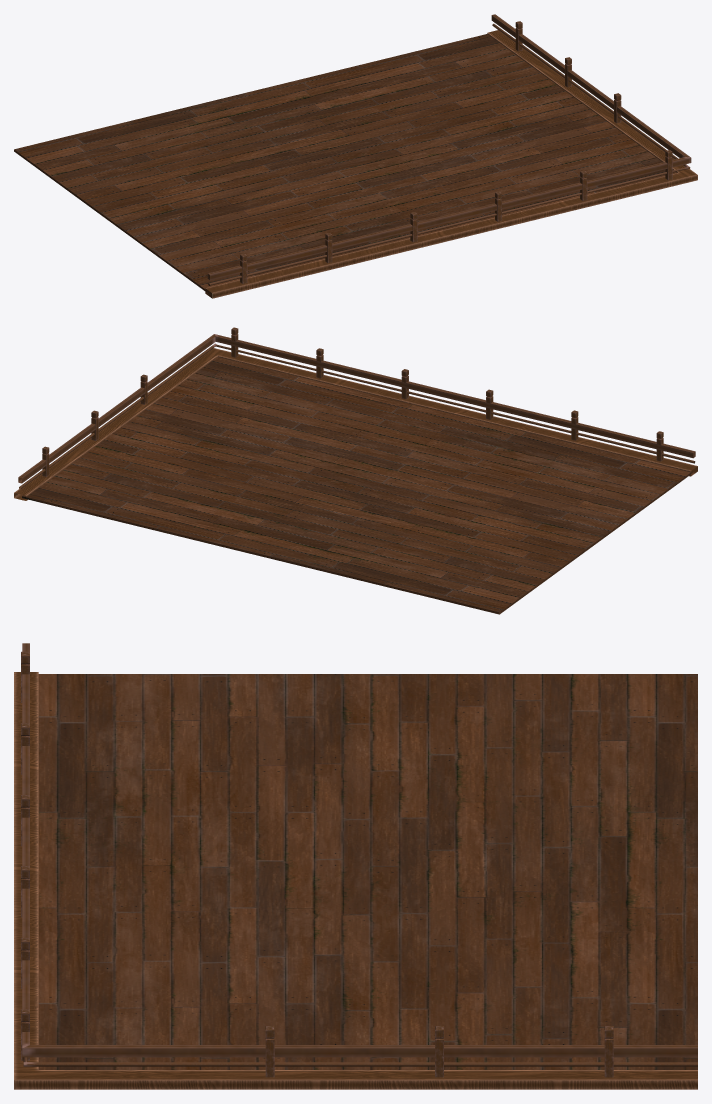
The model's file is Floor_Out_JP_Part1.fbx.
The picture shows the model from 3 angles, top to bottom: view 1: azimuth 30°, elevation 25°; view 2: azimuth 150°, elevation 25°; view 3: azimuth 270°, elevation 25°; orthographic projection. The views are drawn at different scales.
Parts seen in each view (by area): view 1: Floor_JP_Part1_LOD0; view 2: Floor_JP_Part1_LOD0; view 3: Floor_JP_Part1_LOD0.
Part boxes in pixels (<box>): Floor_JP_Part1_LOD0: <box>14,14,697,298</box>; Floor_JP_Part1_LOD0: <box>14,327,697,614</box>; Floor_JP_Part1_LOD0: <box>14,643,697,1089</box>.
Size of what is drawn, in the model's own units: 855 by 55.34 by 605.
